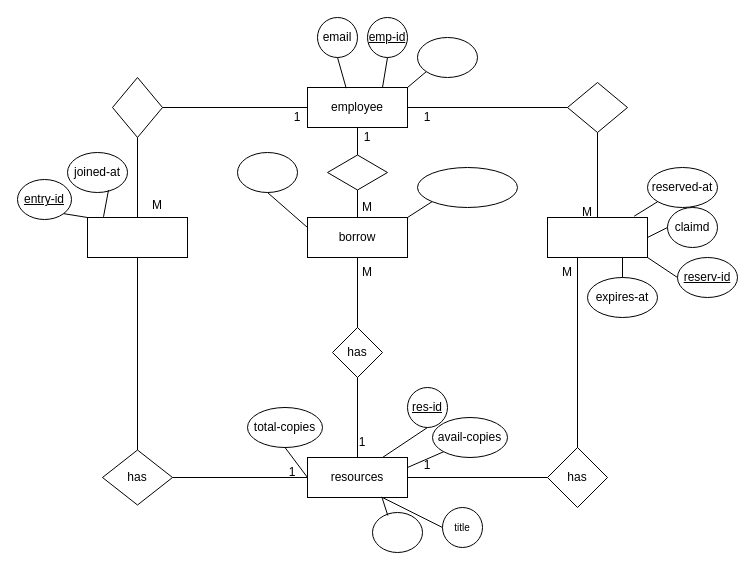
The diagram is 755 pixels wide and 570 high, and some of its shapes have lost their labels. Each missing label, with the centre of its shape:
"borrow-at" goes at point 267,172.
"brow-id" goes at point 467,187.
"giving-to" goes at point 597,107.
"holdes" goes at point 357,172.
"joines" goes at point 137,107.
"name" goes at point 447,57.
"reservation" goes at point 597,237.
"type" goes at point 397,532.
"waitlist_entry" goes at point 137,237.
